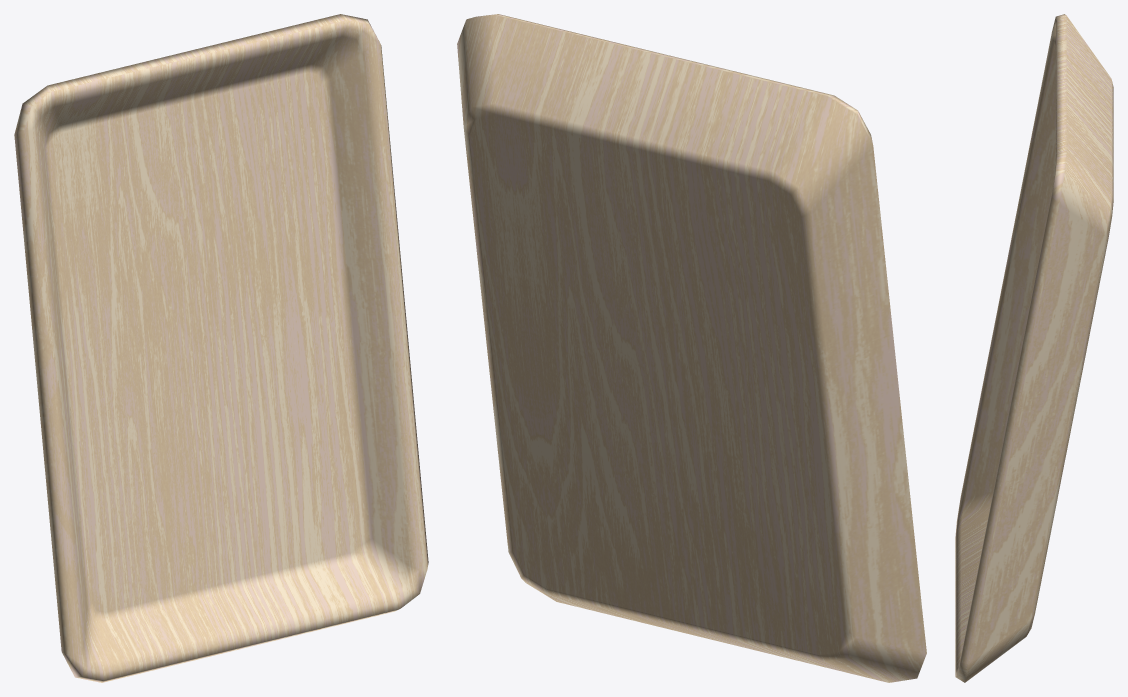
Rendered from prop_008.fbx.
The picture shows the model from 3 angles, left to right: view 1: azimuth 30°, elevation 25°; view 2: azimuth 150°, elevation 25°; view 3: azimuth 270°, elevation 25°; orthographic projection. The views are drawn at different scales.
Parts seen in each view (by area): view 1: prop_008; view 2: prop_008; view 3: prop_008.
Part boxes in pixels (x1,y1,x2,y2): prop_008: [14, 14, 428, 682]; prop_008: [457, 14, 926, 682]; prop_008: [955, 14, 1113, 682].
Size of the model in its own units: 33.25 by 13.1 by 48.27.
